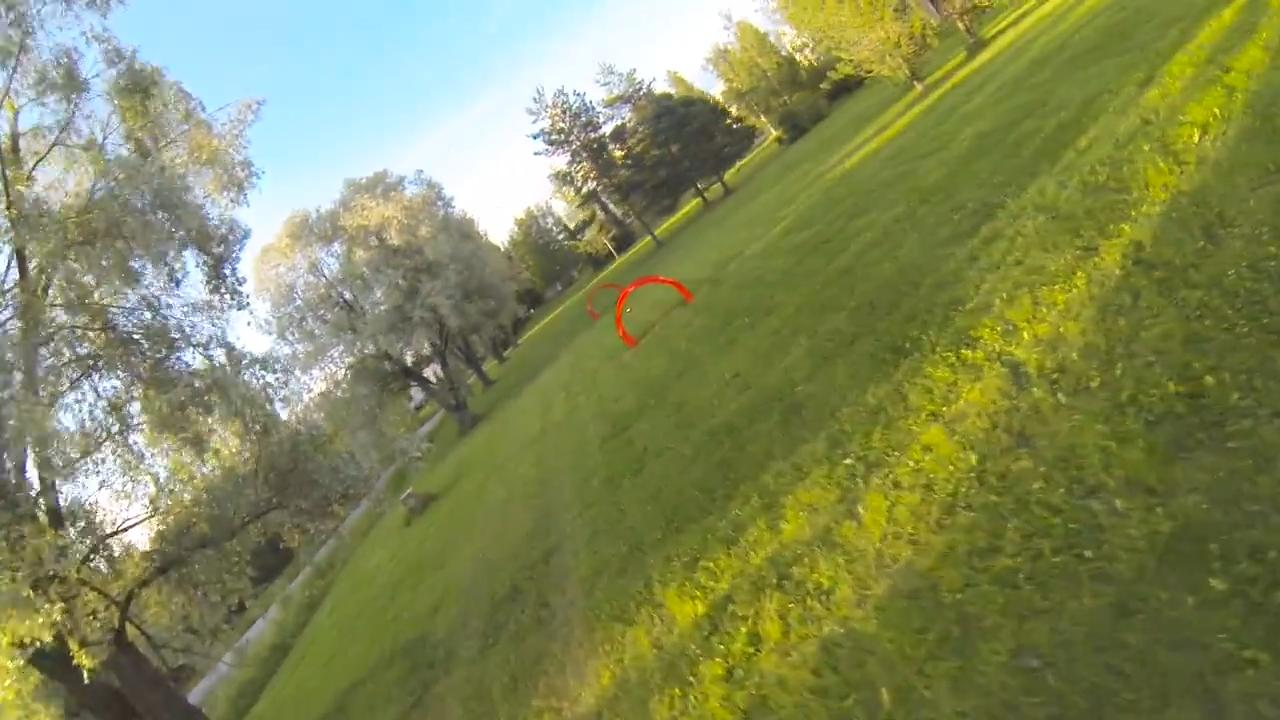gate: (612, 277, 693, 349)
